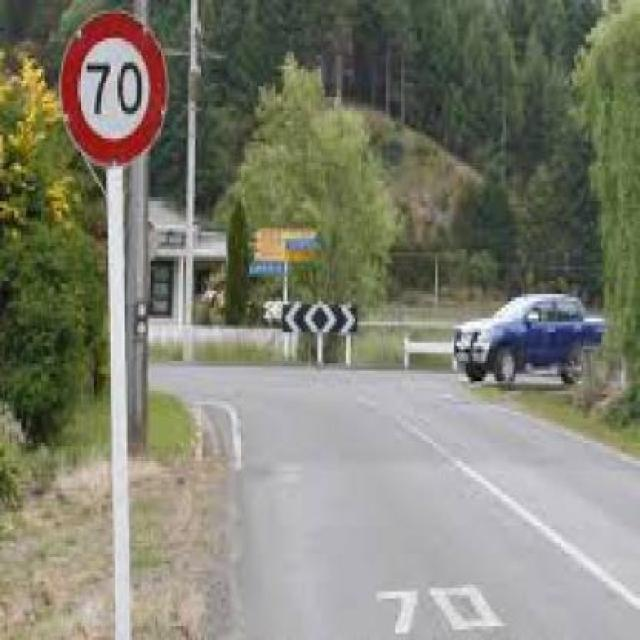forb_speed_over_70: (63, 10, 165, 164)
